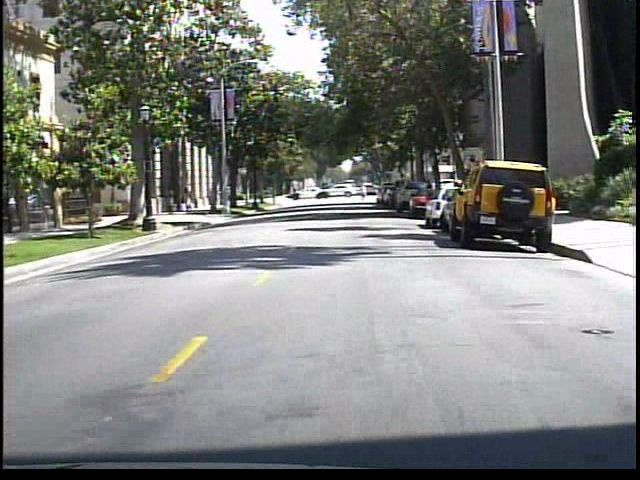person: (179, 184, 200, 217), (165, 182, 182, 216), (359, 181, 373, 204)
